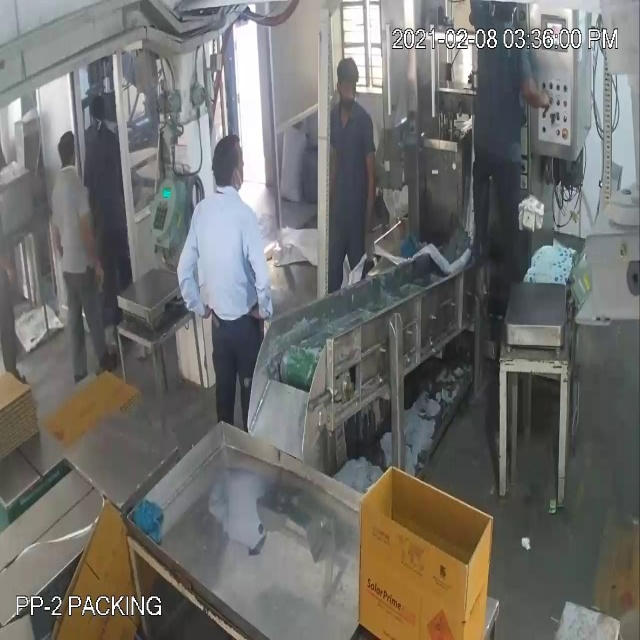Sin_guantes: (75, 195, 118, 321), (171, 209, 214, 333), (235, 226, 283, 333), (352, 136, 383, 257), (518, 39, 552, 123)
